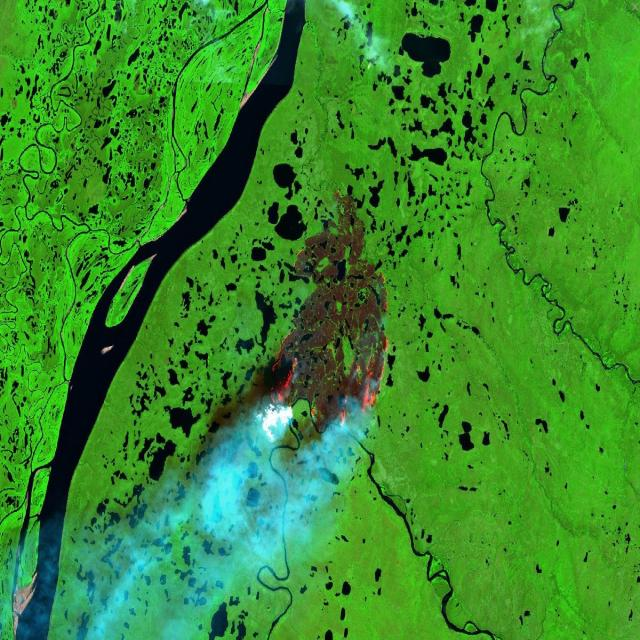fire: (268, 246, 399, 444)
